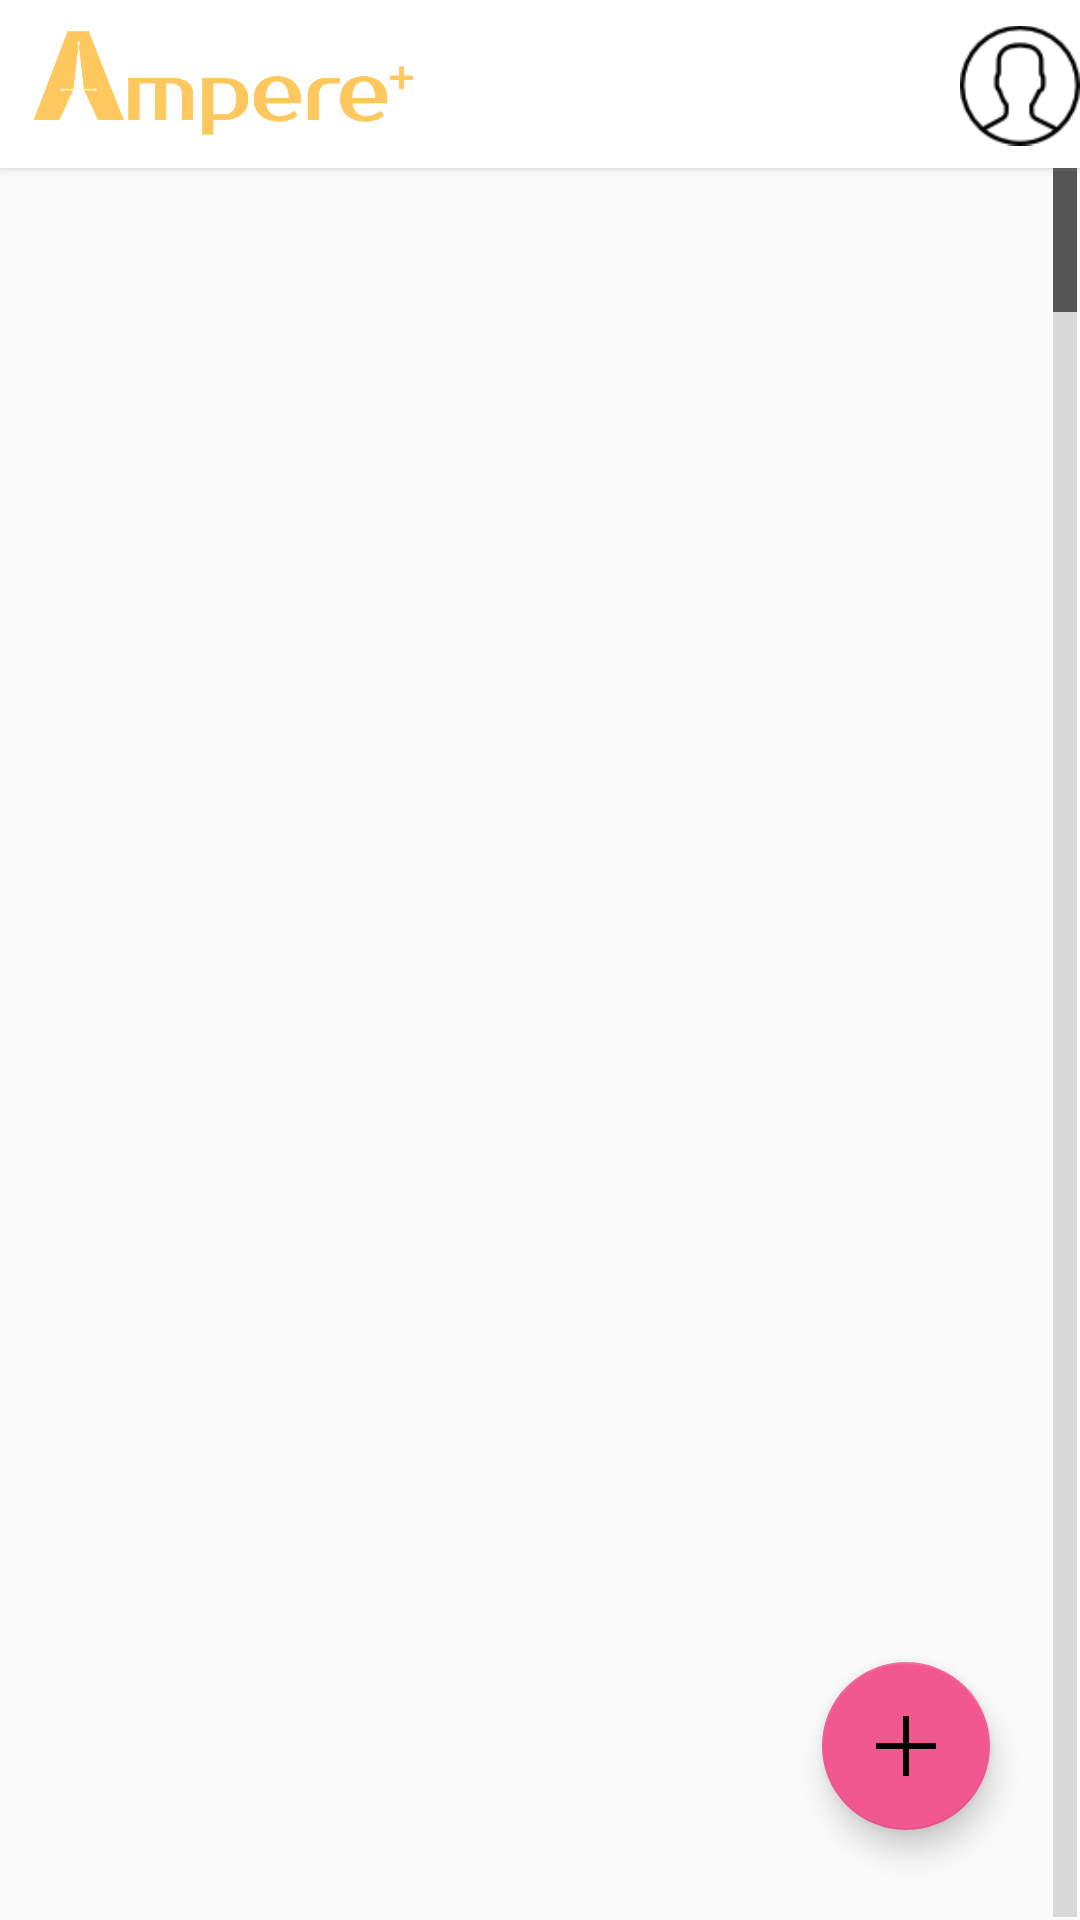

Icons on this 1080 × 1920 Android screen, each with the point to tap as point (x, y):
plus: point (906, 1746)
user: point (1020, 86)
